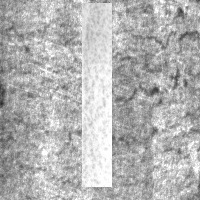crazing: (46, 26, 183, 162)
pitted_surface: (82, 3, 112, 187)
